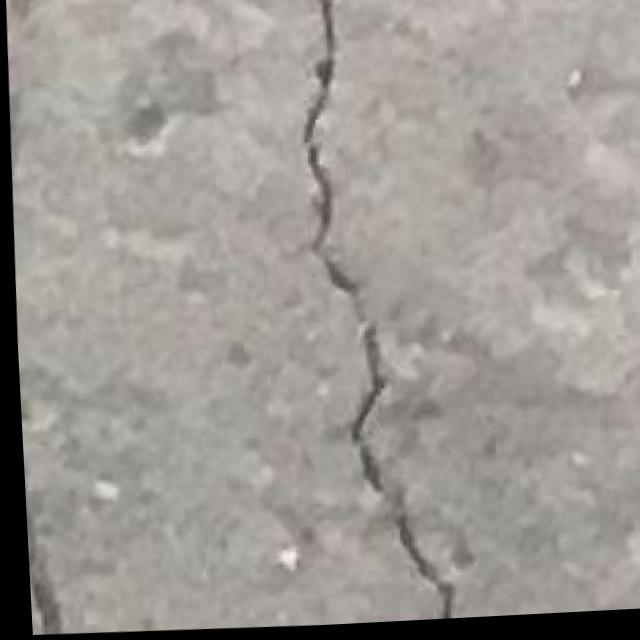Crack: (276, 0, 477, 629)
